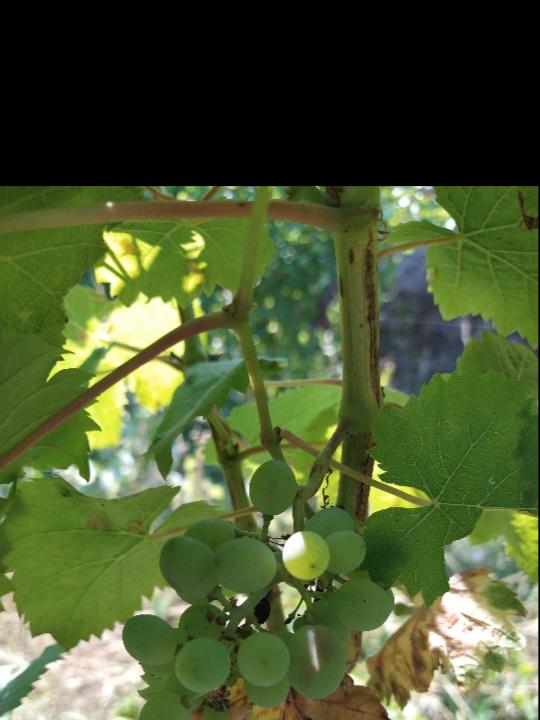grape: (118, 457, 395, 720)
